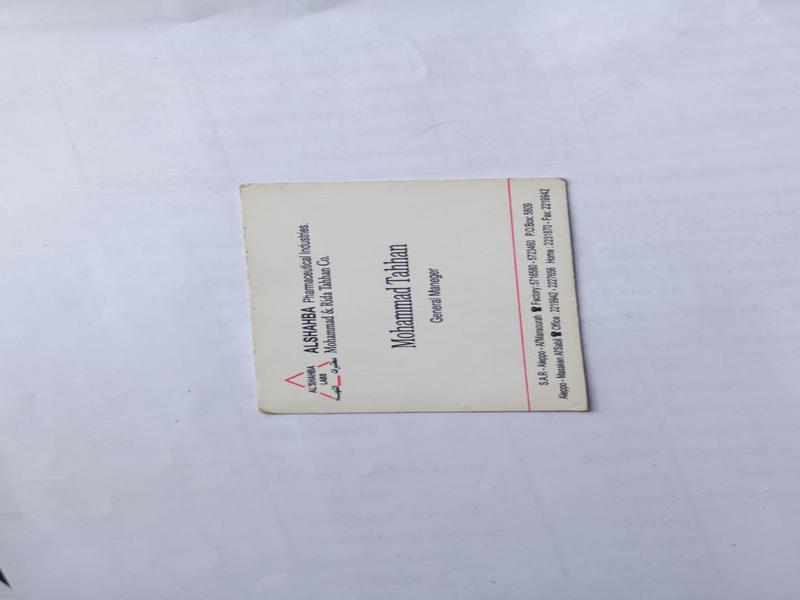card: (248, 180, 583, 415)
